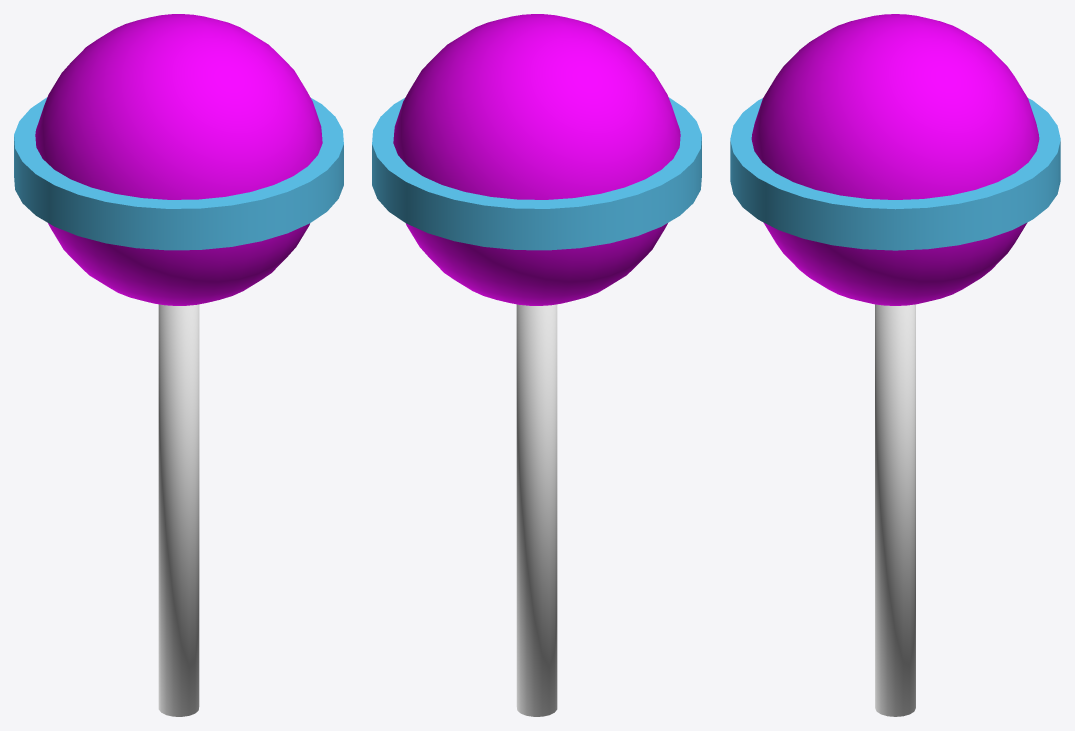
File: Lollipop.fbx
The picture shows the model from 3 angles, left to right: view 1: azimuth 30°, elevation 25°; view 2: azimuth 150°, elevation 25°; view 3: azimuth 270°, elevation 25°; orthographic projection.
Visible parts, largest first — view 1: Lollipop; view 2: Lollipop; view 3: Lollipop.
Boxes of the visible parts, x1,y1,x2,y2 form: Lollipop: [14, 14, 343, 716]; Lollipop: [372, 14, 701, 716]; Lollipop: [730, 14, 1060, 716].
Bounding box in the file's own units: 0.5327 × 0.5327 × 1.21.
